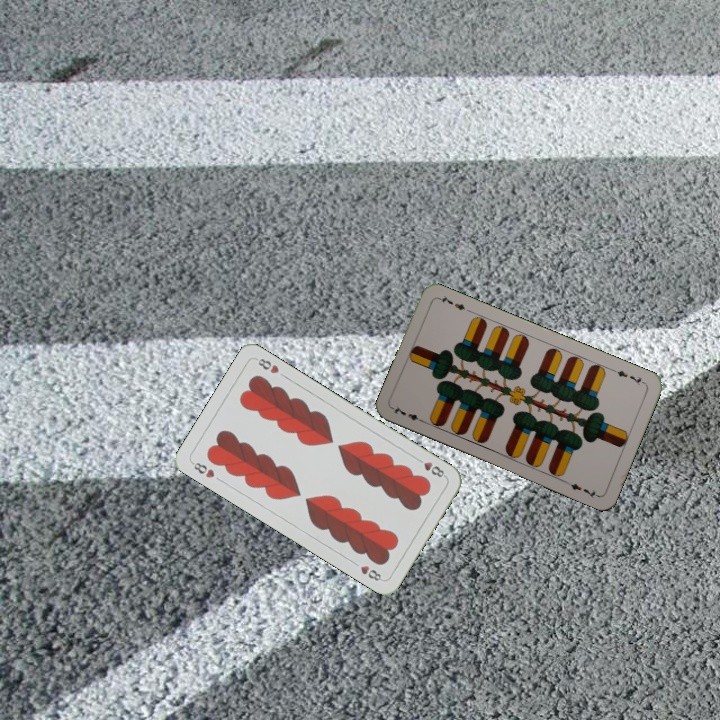E7: (389, 402, 428, 426), (609, 365, 648, 388)
H8: (412, 454, 448, 480), (188, 458, 217, 481)
